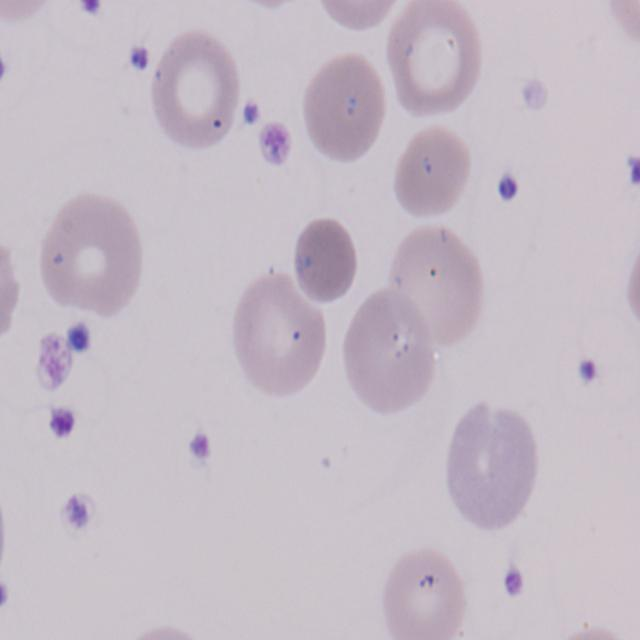Platelets: (64, 314, 94, 354)
RBC: (32, 194, 144, 318), (387, 226, 488, 354), (336, 284, 432, 418), (379, 0, 484, 122), (227, 277, 328, 403), (148, 24, 244, 154), (298, 47, 388, 169), (383, 539, 472, 640), (390, 118, 473, 225), (307, 0, 409, 33), (599, 0, 640, 48), (624, 228, 640, 342), (0, 0, 62, 26), (541, 629, 638, 640), (218, 0, 308, 10)
Spherocyte: (288, 210, 358, 308)
WBC: (440, 370, 542, 547)
